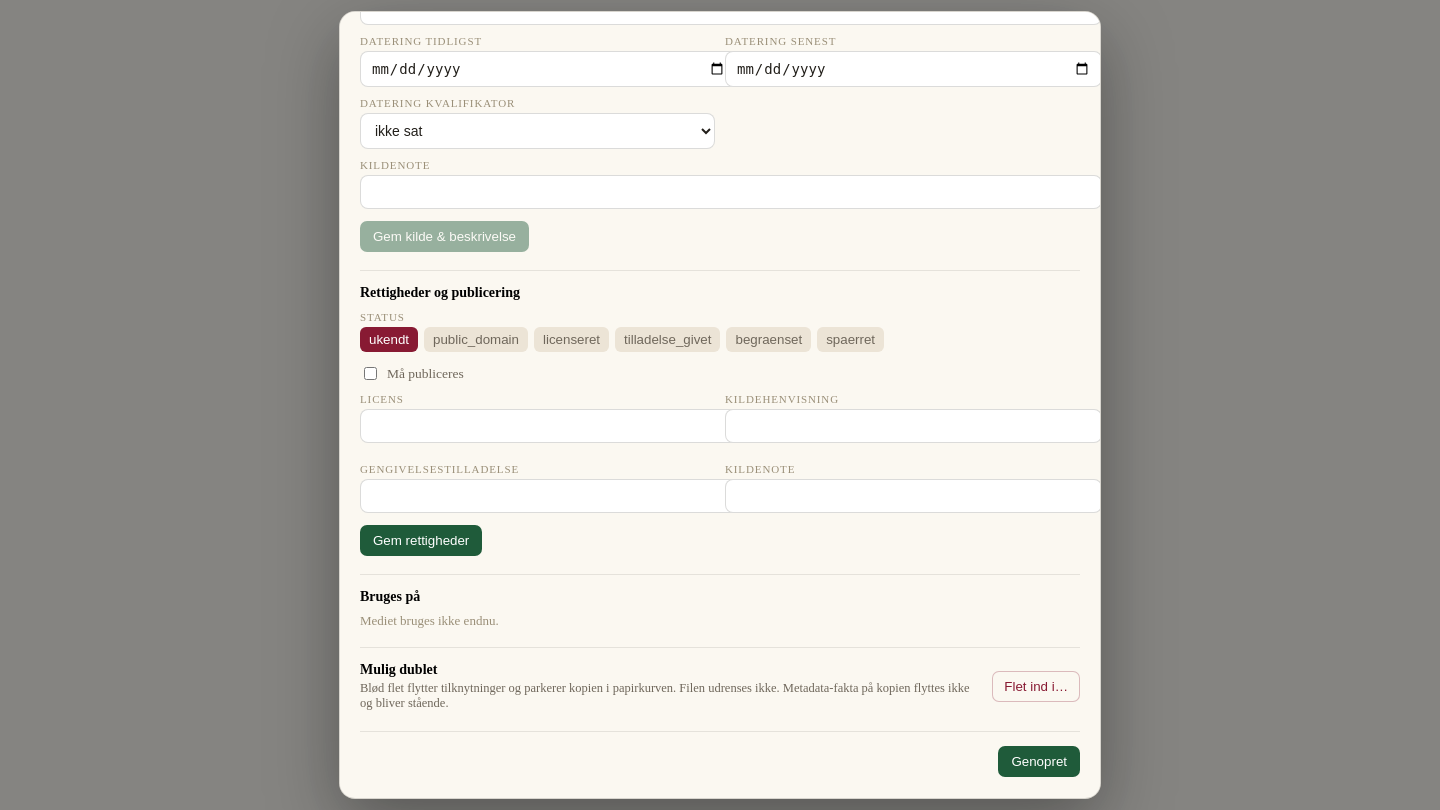
Test case: MediaDetaljeOverlay — sikker fletdialog › har et associeret label på original-picker
(page scrolled)
Step 1. Click the button "Flet ind i…" → point(1036, 687), box [992,671,1080,702]
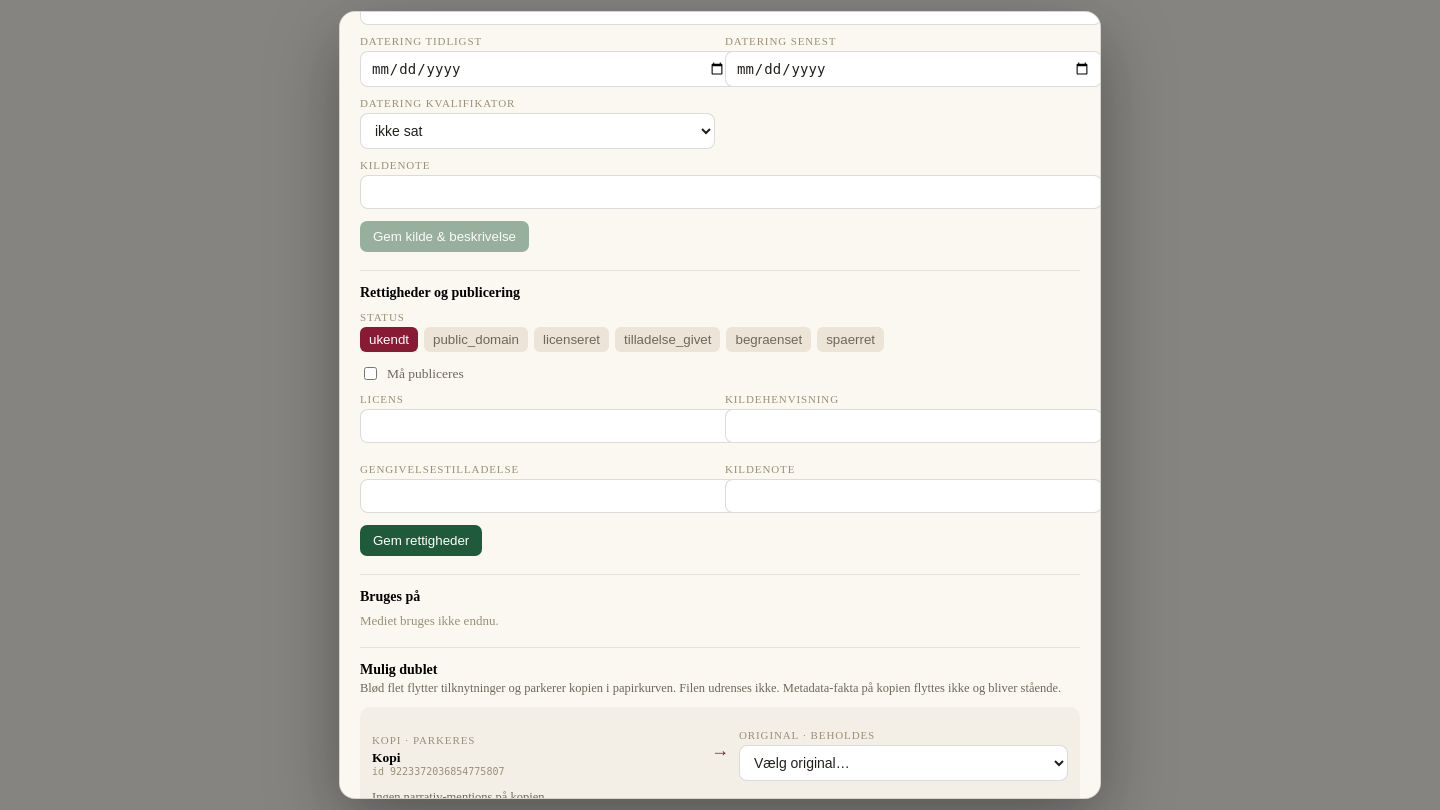
Result: the dropdown labelled "Original · beholdes" is shown at [739,745,1068,781]
